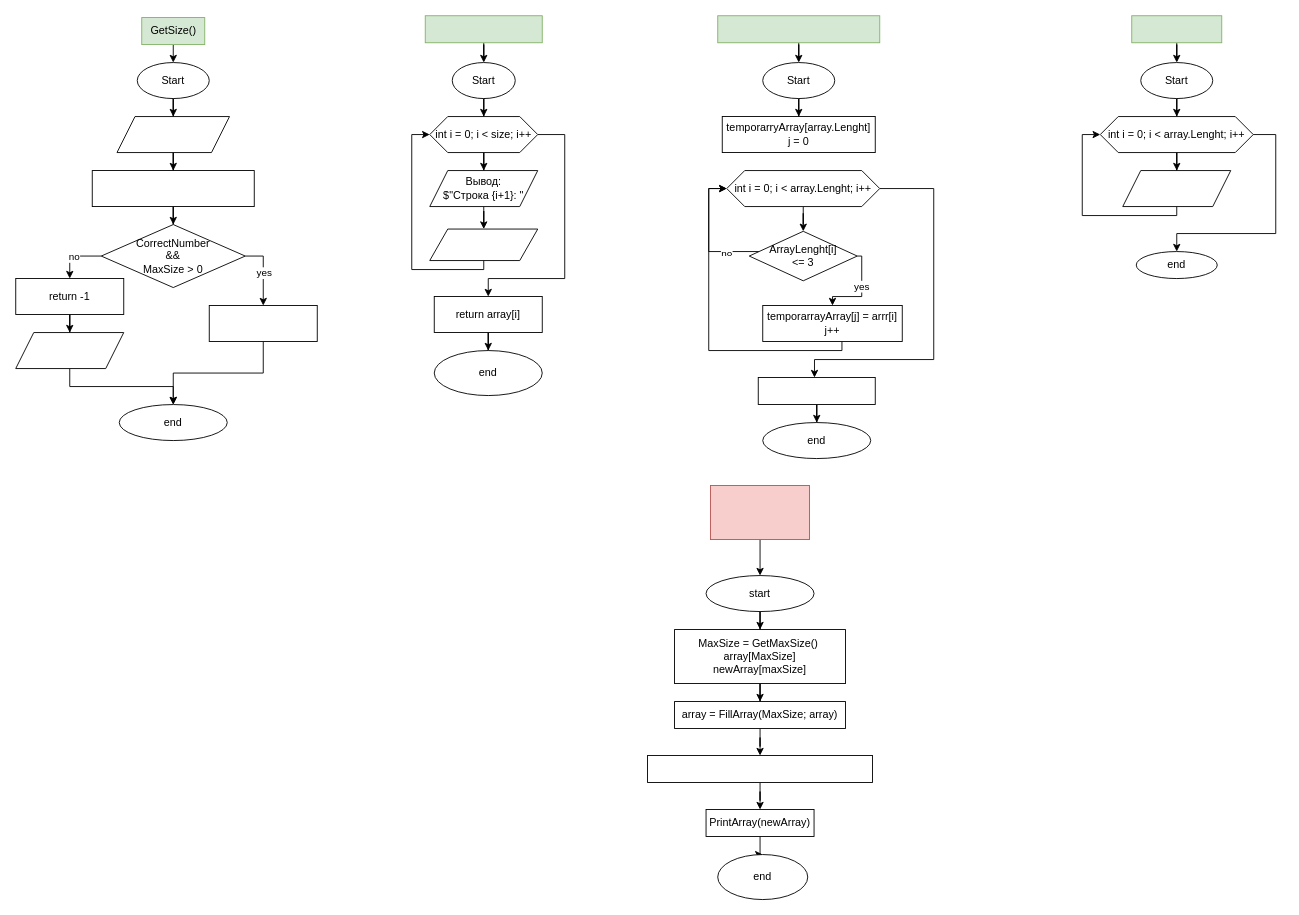
Image size: 1299x915. Some labels were removed from this diagram. Each missing label, with the centre of its shape:
array[i] = Ввод строки: (483,244)
CorrectNumber = Int.TryParse(Console.Readline(), out int MaxSize): (172,188)
FillArray(size; array): (483,29)
main: (760,512)
newArray = StringLenghtLessThree(array): (760,769)
PrintArray(arr): (1176,29)
return MaxSize: (262,323)
return temporarryArray: (816,391)
StringLenghtLessThree(array): (798,29)
Вывод: "Введите число: ": (173,134)
Вывод: "Неверное число": (69,350)
Вывод: $"{arr[i]} ": (1176,188)
